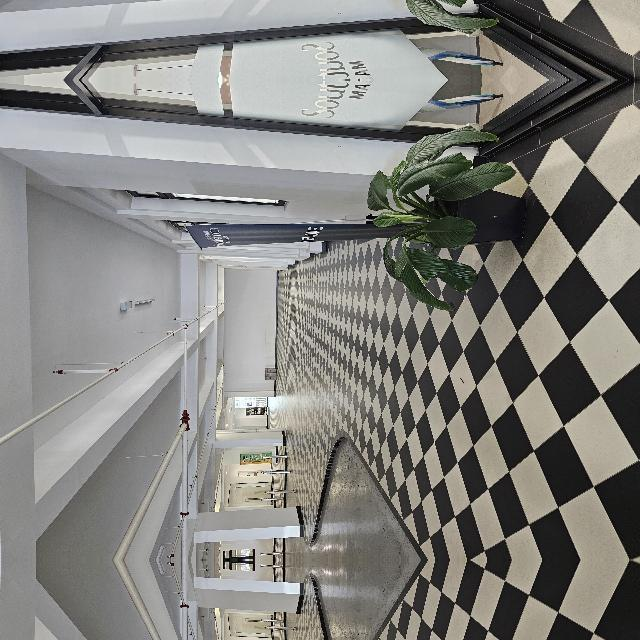obstacle: (277, 456, 397, 610), (277, 510, 397, 640)
